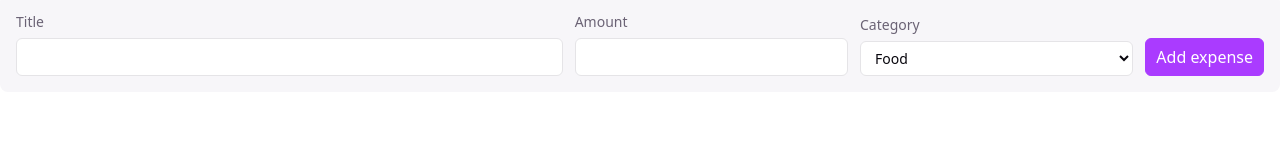
it: ExpenseForm › rejects an empty title
This screenshot has width=1280, height=160.
Type "250" into the field labelled "Amount".
click(711, 57); type("250")  # box [575,38,848,76]
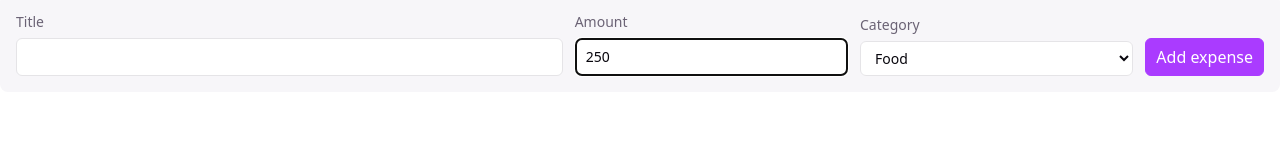
Click the button "Add expense".
click(1205, 57)  # box [1145,38,1264,76]
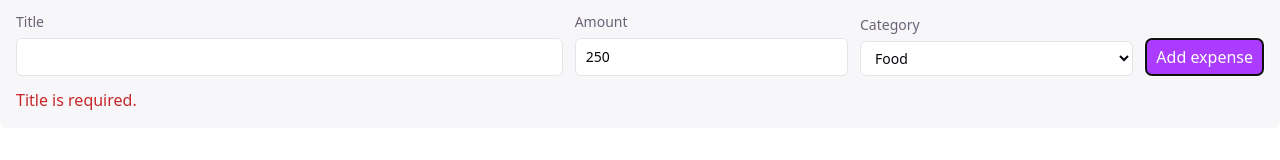
expect the message reads "Title is required.": met, box [16,89,137,111]
